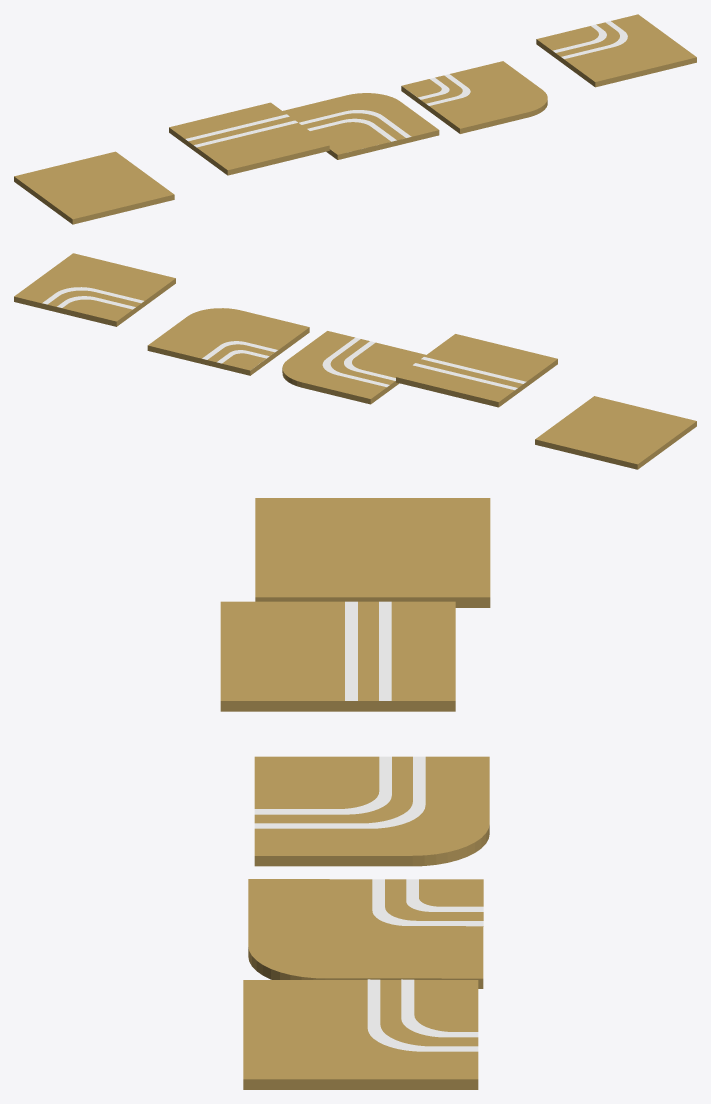
The model's file is tile_mat_name.fbx.
The picture shows the model from 3 angles, top to bottom: view 1: azimuth 30°, elevation 25°; view 2: azimuth 150°, elevation 25°; view 3: azimuth 270°, elevation 25°; orthographic projection. The views are drawn at different scales.
Visible parts, largest first — view 1: Plane.004, Plane, Plane.001, Plane.005, Plane.002; view 2: Plane.004, Plane, Plane.001, Plane.005, Plane.002; view 3: Plane.001, Plane.004, Plane.002, Plane, Plane.005.
Part boxes in pixels (bbox=[...]): Plane.004: bbox=[536, 14, 696, 87]; Plane: bbox=[14, 151, 174, 224]; Plane.001: bbox=[169, 102, 329, 175]; Plane.005: bbox=[401, 61, 547, 133]; Plane.002: bbox=[283, 93, 439, 159]; Plane.004: bbox=[14, 253, 175, 326]; Plane: bbox=[535, 396, 696, 469]; Plane.001: bbox=[396, 334, 557, 407]; Plane.005: bbox=[147, 308, 309, 375]; Plane.002: bbox=[282, 331, 425, 404]; Plane.001: bbox=[220, 601, 455, 711]; Plane.004: bbox=[243, 979, 478, 1089]; Plane.002: bbox=[254, 756, 489, 866]; Plane: bbox=[255, 498, 490, 607]; Plane.005: bbox=[248, 879, 483, 988].
Size of the model in its own units: 611 by 25.62 by 115.
